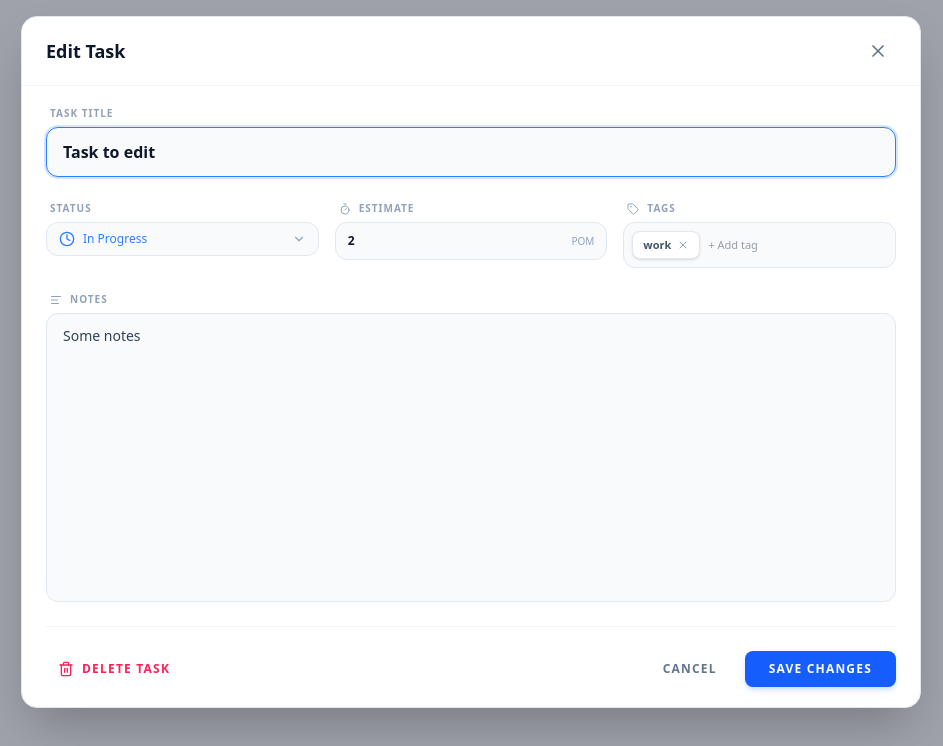
Test: TaskDetailDialog › removes last tag when Backspace is pressed with empty tag input
The width and height of the screenshot is (943, 746).
Type "extra" into the field with placeholder "+ Add tag".
click(798, 245); type("extra")  # box [708, 231, 887, 259]
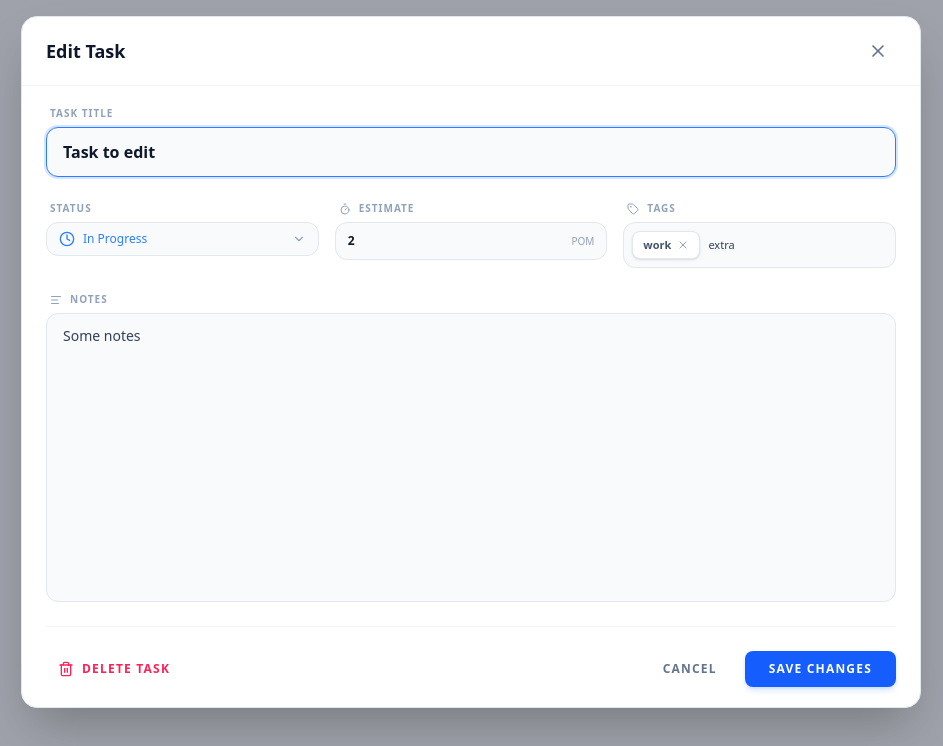
Press Enter in the field with placeholder "+ Add tag" next to "work", box [708, 231, 887, 259]
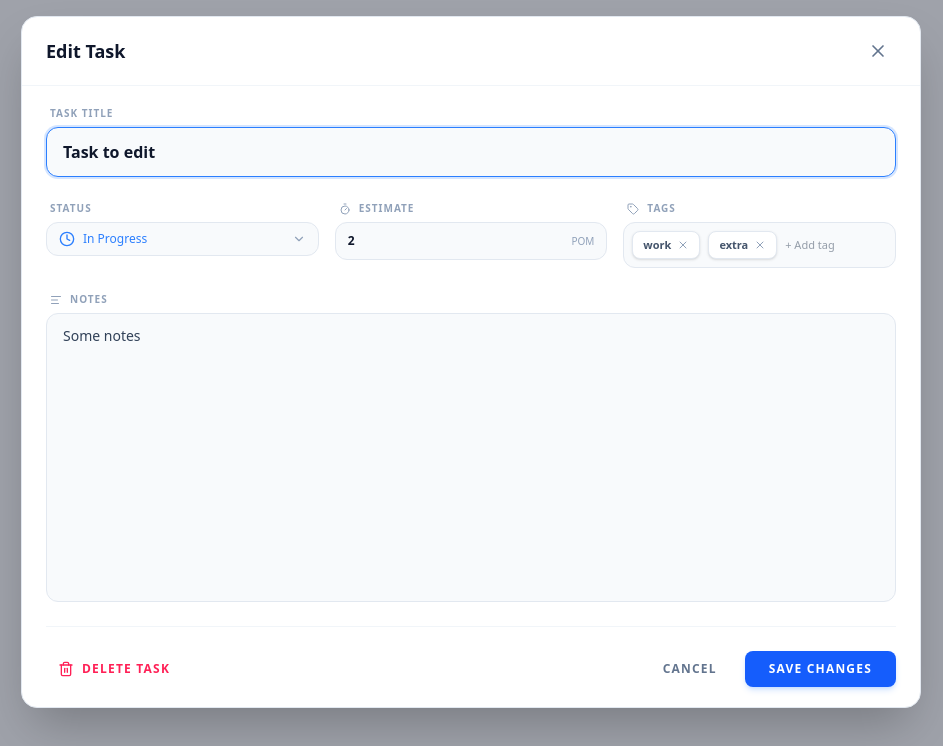
Check: the text "extra" is shown, box [708, 231, 777, 259]
Press Backspace in the field with placeholder "+ Add tag", box [785, 231, 887, 259]
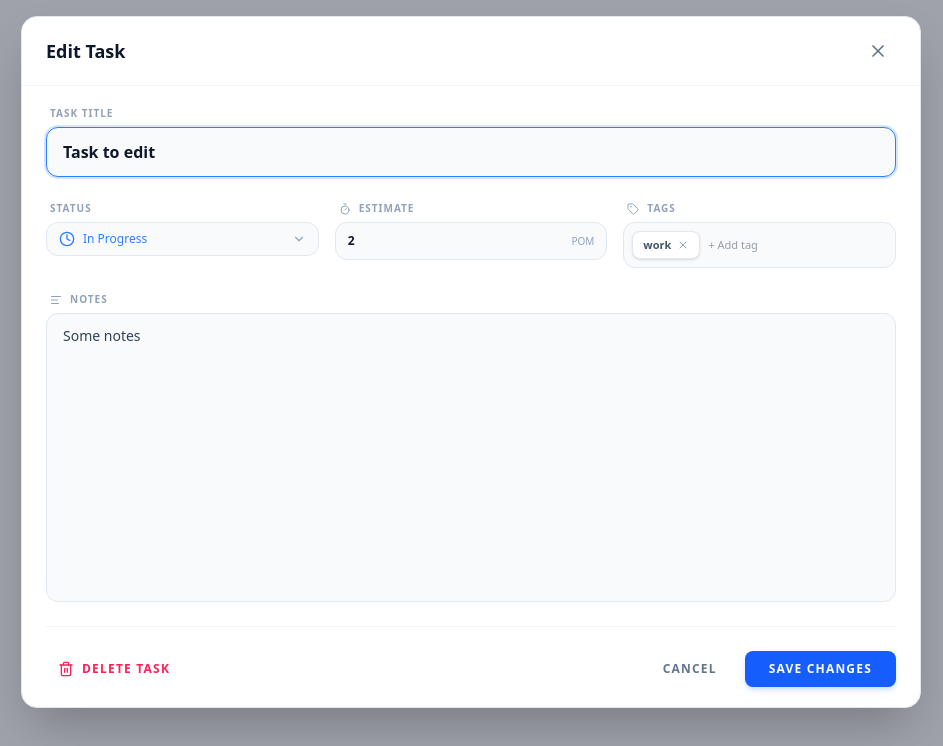
Check: the text "work" is shown, box [632, 231, 700, 259]
Check: the text "extra" is gone
